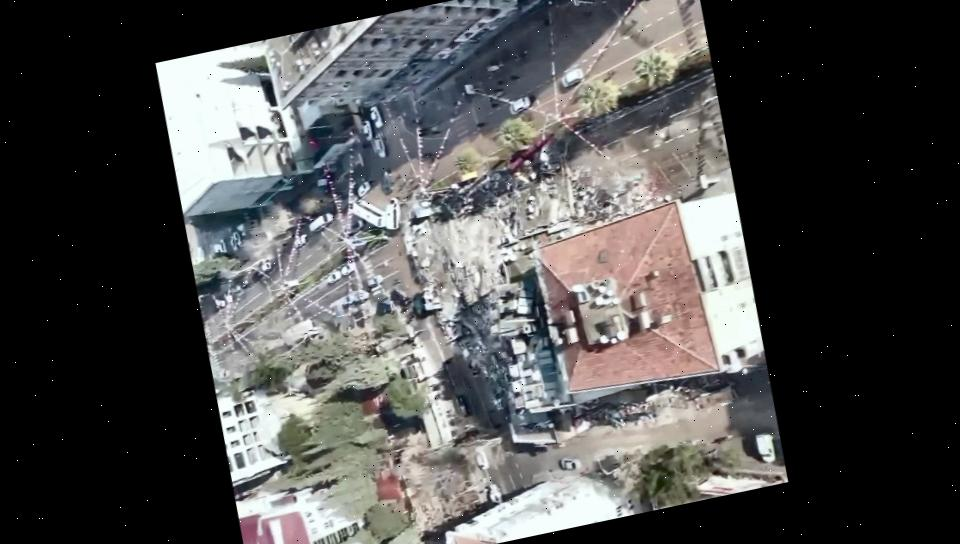kapali: (386, 100, 681, 281)
